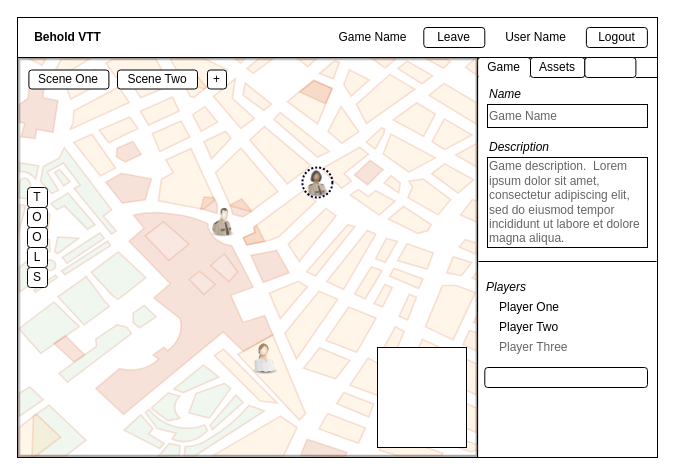
This 676x475 diagram has some shape labels left out. Here are the shapes that lost their labels. From the top down, the box of each, then its label:
(584, 56, 636, 78): Scene
(376, 346, 466, 448): Selected Piece Properties
(484, 366, 648, 388): Invite
